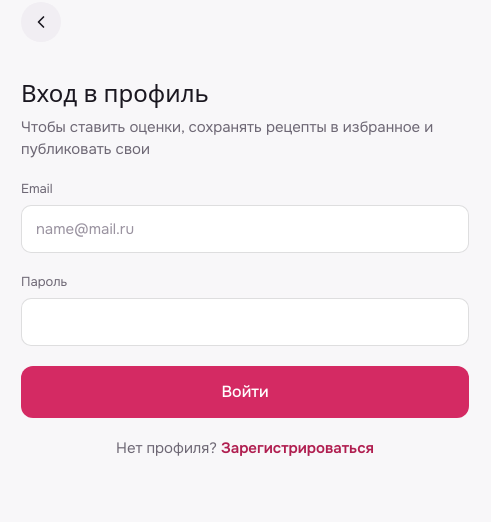
Test: формы входа и регистрации › пустая отправка — ошибки под полями, фокус на первом
Click the button "Войти". click: (245, 392)
box: [21,366,469,418]
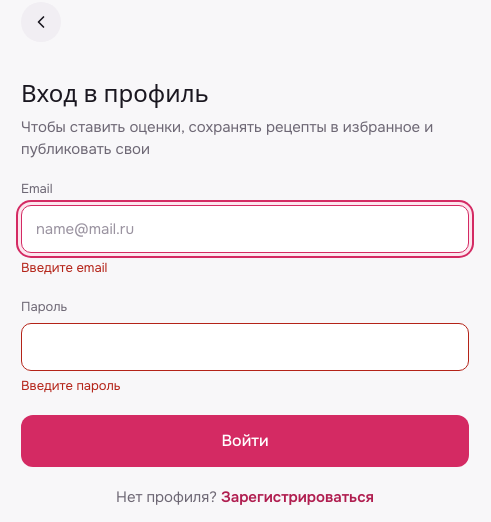
Check: the text "Введите email" is shown, box [21,259,107,276]
Check: the text "Введите пароль" is shown, box [21,376,120,394]
